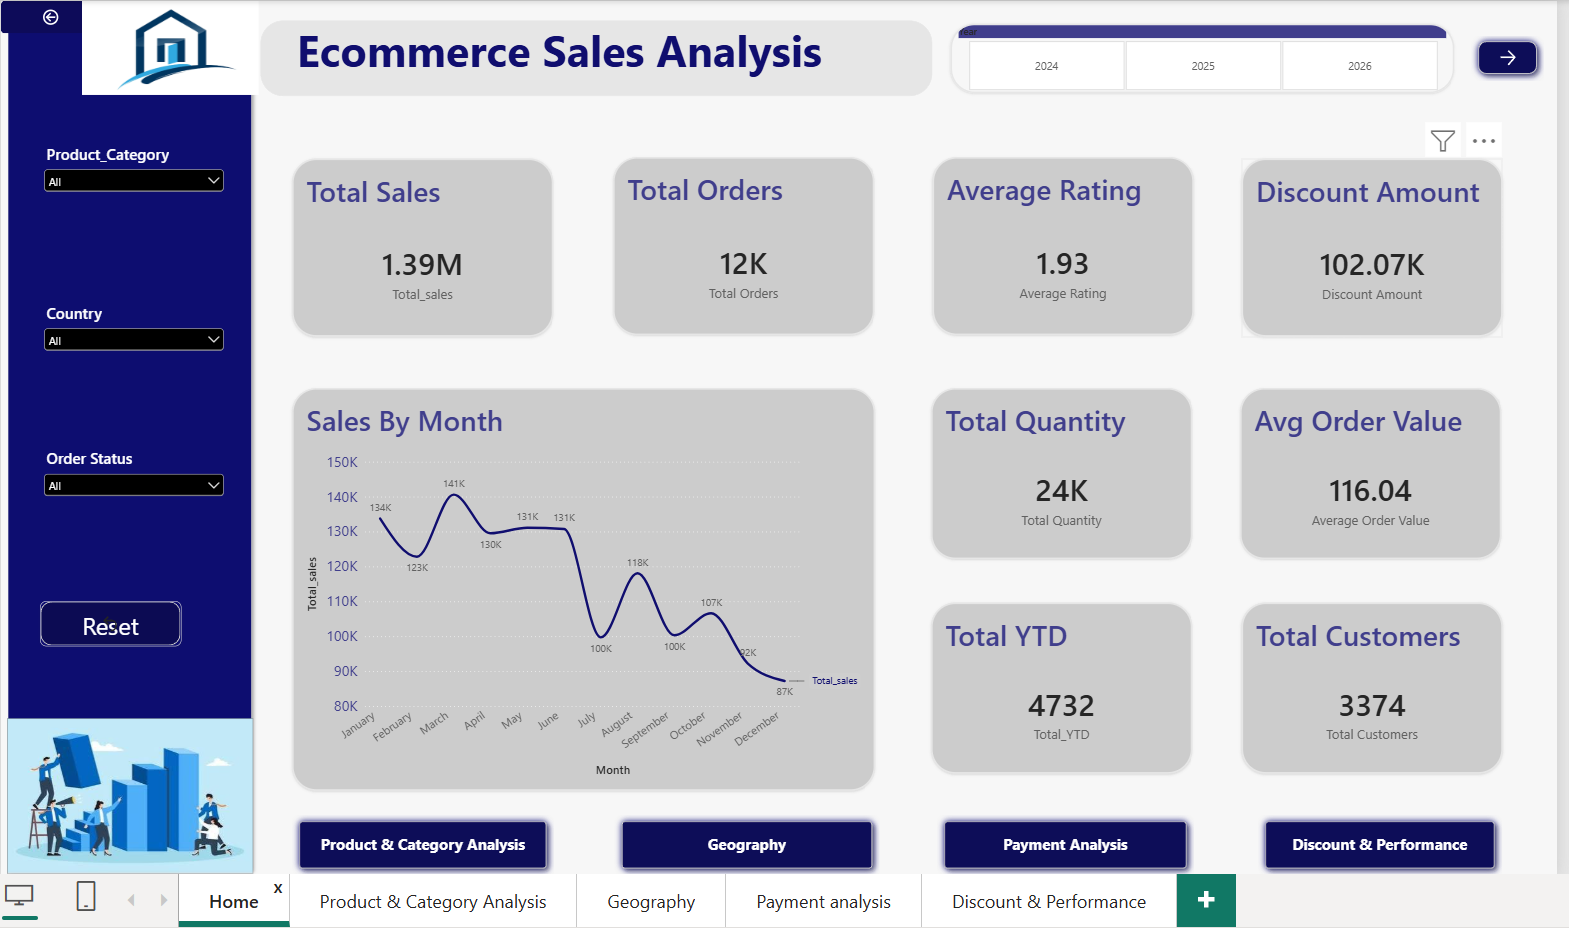

What the dashboard file says about the page in this screenshot:
{"tool":"powerbi","page":{"name":"Home","canvas":[1920,1080],"ordinal":0},"visuals":[{"type":"textbox","box":[320.3,25,829,93.1],"z":0},{"type":"card","title":"Total Sales","fields":{"Values":["Sales_details.Total_sales"]},"box":[358.9,195.3,322.5,220.3],"z":1000},{"type":"card","title":"Total Orders","fields":{"Values":["Sales_details.Total Orders"]},"box":[756.3,193.1,322.5,220.3],"z":2000},{"type":"card","title":"Average Rating","fields":{"Values":["Sales_details.Average Rating"]},"box":[1149.3,193.1,322.5,220.3],"z":3000},{"type":"shape","box":[0,2.9,317.8,1077.5],"z":4000},{"type":"card","title":"Discount Amount","fields":{"Values":["Sales_details.Discount Amount"]},"box":[1530.9,195.3,322.5,220.3],"z":5000},{"type":"slicer","title":"Total Sales","fields":{"Values":["Sales_details.Order_Date.Variation.Date Hierarchy.Year"]},"box":[1172.1,28.1,622.2,86.3],"z":6000},{"type":"lineChart","title":"Sales By Month","fields":{"Y":["Sales_details.Total_sales"],"Category":["Sales_details.Order_Date.Variation.Date Hierarchy.Month"]},"box":[358.9,477,720,497.4],"z":7000},{"type":"slicer","fields":{"Values":["product_details.Product_Category"]},"box":[47.4,175.3,231.7,153.3],"z":8000},{"type":"slicer","fields":{"Values":["Location_details.Country"]},"box":[47.4,371.8,231.7,168.3],"z":9000},{"type":"slicer","fields":{"Values":["Sales_details.Order_Status_Consistency"]},"box":[47.4,551.8,231.7,138.3],"z":10000},{"type":"card","title":"Total Quantity","fields":{"Values":["Sales_details.Total Quantity"]},"box":[1148,478,322.5,211.2],"z":11000},{"type":"card","title":"Total YTD","fields":{"Values":["Sales_details.Total_YTD"]},"box":[1148,742,322.5,211.2],"z":12000},{"type":"card","title":"Avg Order Value","fields":{"Values":["Sales_details.Average Order Value"]},"box":[1530,478,322.5,211.2],"z":13000},{"type":"card","title":"Total Customers","fields":{"Values":["Sales_details.Total Customers"]},"box":[1532,742,322.5,211.2],"z":14000},{"type":"actionButton","box":[0,0,122.5,40],"z":15000},{"type":"actionButton","box":[1814.3,40.1,90.3,58.2],"z":16000},{"type":"actionButton","title":"Product & Category Analysis","box":[359.3,1003.5,323.1,76.3],"z":17000},{"type":"actionButton","title":"Reset","box":[47.4,741.3,174.6,56.2],"z":18000},{"type":"actionButton","title":"Product & Category Analysis","box":[756.6,1003.5,327.1,76.3],"z":19000},{"type":"actionButton","title":"Product & Category Analysis","box":[1156,1003.5,317.1,76.3],"z":20000},{"type":"actionButton","title":"Product & Category Analysis","box":[1551.4,1003.5,301,76.3],"z":21000},{"type":"image","box":[99.5,0,217.9,116.1],"z":22000},{"type":"image","box":[7.4,886,304,192.8],"z":23000}]}

Visuals, with their boxes on the page's 1920x1080 design canvas (x1, y1, x2, y2). These are canvas units, not pixel positions in the 1569x928 screenshot, which may show the page scaled, cropped or inside an application window:
textbox: x1=320, y1=25, x2=1149, y2=118
"Total Sales" card: x1=359, y1=195, x2=681, y2=416
"Total Orders" card: x1=756, y1=193, x2=1079, y2=413
"Average Rating" card: x1=1149, y1=193, x2=1472, y2=413
shape: x1=0, y1=3, x2=318, y2=1080
"Discount Amount" card: x1=1531, y1=195, x2=1853, y2=416
"Total Sales" slicer: x1=1172, y1=28, x2=1794, y2=114
"Sales By Month" lineChart: x1=359, y1=477, x2=1079, y2=974
slicer - product_details.Product_Category: x1=47, y1=175, x2=279, y2=329
slicer - Location_details.Country: x1=47, y1=372, x2=279, y2=540
slicer - Sales_details.Order_Status_Consistency: x1=47, y1=552, x2=279, y2=690
"Total Quantity" card: x1=1148, y1=478, x2=1470, y2=689
"Total YTD" card: x1=1148, y1=742, x2=1470, y2=953
"Avg Order Value" card: x1=1530, y1=478, x2=1852, y2=689
"Total Customers" card: x1=1532, y1=742, x2=1854, y2=953
actionButton: x1=0, y1=0, x2=122, y2=40
actionButton: x1=1814, y1=40, x2=1905, y2=98
"Product & Category Analysis" actionButton: x1=359, y1=1004, x2=682, y2=1080
"Reset" actionButton: x1=47, y1=741, x2=222, y2=798
"Product & Category Analysis" actionButton: x1=757, y1=1004, x2=1084, y2=1080
"Product & Category Analysis" actionButton: x1=1156, y1=1004, x2=1473, y2=1080
"Product & Category Analysis" actionButton: x1=1551, y1=1004, x2=1852, y2=1080
image: x1=100, y1=0, x2=317, y2=116
image: x1=7, y1=886, x2=311, y2=1079
